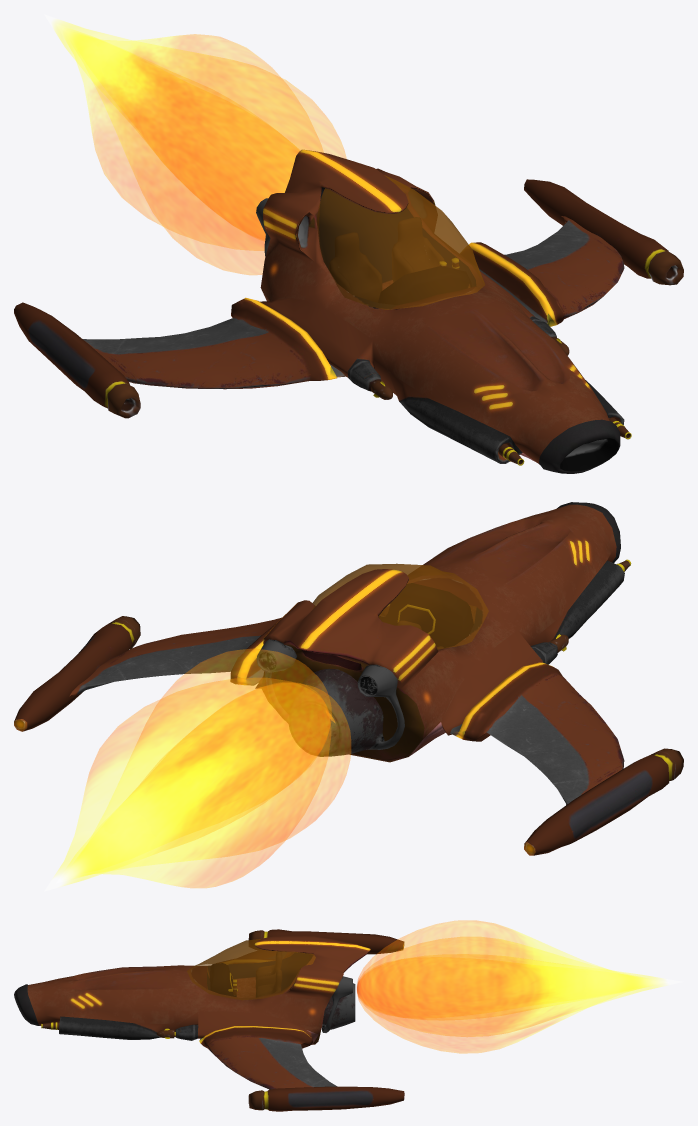
3 views of the same model, one above another, from view 1: azimuth 30°, elevation 25°; view 2: azimuth 150°, elevation 25°; view 3: azimuth 270°, elevation 25° (orthographic). The views are drawn at different scales.
Parts seen in each view (by area): view 1: b_low1, Flame2, Flame0, ai_low1, v_low1, Flame1, Flame3, t_low1, s_low1, p_low3; view 2: b_low1, Flame2, Flame0, Flame1, ai_low1, Flame3, t_low1, r_low1, v_low1, p_low3; view 3: b_low1, Flame1, Flame0, Flame3, Flame2, ai_low1, v_low1, t_low1, r_low1, s_low1, p_low3.
Boxes of the visible parts, box(x1,y1,x2,y2) form: b_low1: box(260, 149, 624, 473); Flame2: box(56, 24, 292, 250); Flame0: box(89, 34, 323, 239); ai_low1: box(83, 216, 624, 389); v_low1: box(316, 175, 485, 309); Flame1: box(44, 14, 346, 166); Flame3: box(65, 30, 295, 274); t_low1: box(14, 179, 683, 418); s_low1: box(329, 217, 444, 302); p_low3: box(378, 266, 631, 465); b_low1: box(255, 502, 624, 762); Flame2: box(57, 683, 351, 882); Flame0: box(90, 648, 331, 846); Flame1: box(44, 678, 329, 891); ai_low1: box(69, 617, 624, 804); Flame3: box(78, 683, 330, 887); t_low1: box(14, 616, 683, 855); r_low1: box(256, 639, 404, 756); v_low1: box(312, 563, 488, 649); p_low3: box(378, 559, 631, 647); b_low1: box(14, 936, 370, 1044); Flame1: box(356, 954, 681, 1036); Flame0: box(356, 920, 621, 1017); Flame3: box(357, 962, 646, 1053); Flame2: box(358, 937, 667, 1019); ai_low1: box(199, 964, 337, 1089); v_low1: box(187, 939, 315, 1000); t_low1: box(248, 929, 404, 1111); r_low1: box(321, 976, 355, 1032); s_low1: box(256, 951, 281, 997); p_low3: box(41, 963, 236, 1029).
Size of the model in its own units: 2 by 0.7086 by 3.37.
3 materials, 3 textured.
